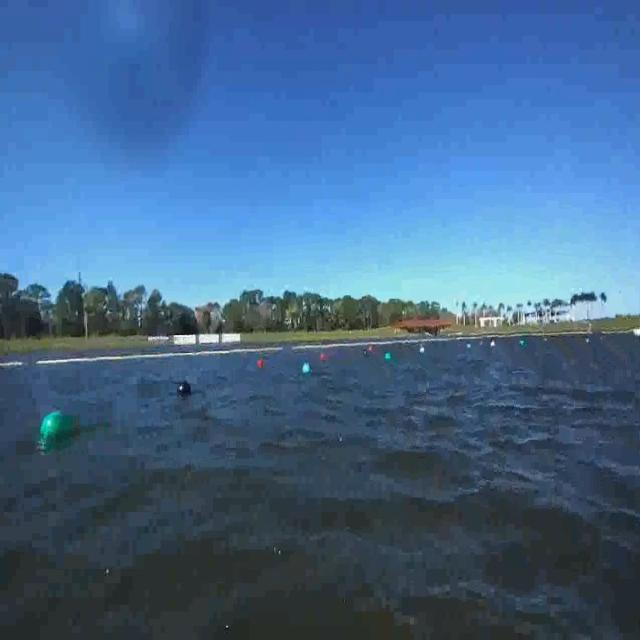black-buoy: (176, 381, 192, 398)
green-buoy: (41, 413, 72, 446), (303, 362, 312, 374)
red-buoy: (257, 358, 264, 368)
